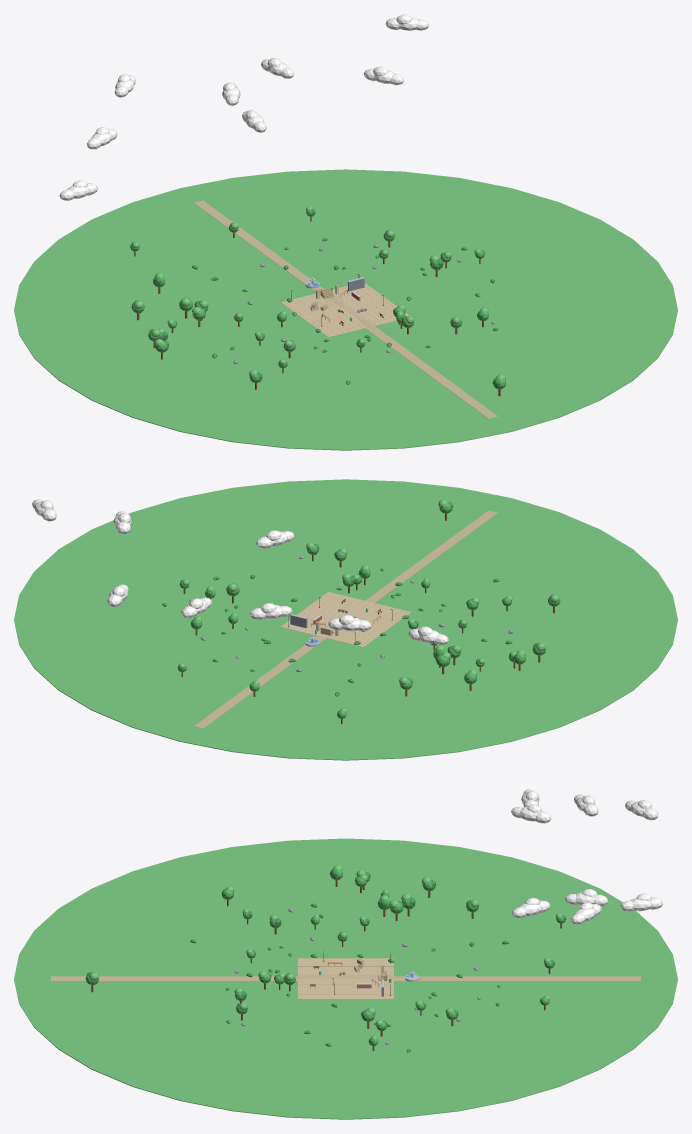
File: Parkour_World.fbx
3 views of the same model, one above another, from view 1: azimuth 30°, elevation 25°; view 2: azimuth 150°, elevation 25°; view 3: azimuth 270°, elevation 25° (orthographic).
Visible parts, largest first — view 1: Ground.001, Plaza.001, Path.002, Path.001; view 2: Ground.001, Plaza.001, Path.002, Path.001, Cloud.002, Cloud.003, Cloud.001, Cloud.004; view 3: Ground.001, Plaza.001, Path.001, Path.002, Cloud.006, Cloud.004, Cloud.007, Cloud.005.
Part boxes in pixels (x1,y1,x2,y2): Ground.001: (14, 169, 677, 450); Plaza.001: (280, 283, 409, 337); Path.002: (346, 308, 497, 418); Path.001: (194, 200, 350, 309); Ground.001: (14, 479, 677, 760); Plaza.001: (281, 592, 411, 647); Path.002: (365, 510, 497, 602); Path.001: (194, 635, 327, 728); Cloud.002: (328, 614, 371, 631); Cloud.003: (249, 603, 292, 619); Cloud.001: (408, 626, 448, 644); Cloud.004: (256, 530, 294, 548); Ground.001: (14, 838, 677, 1119); Plaza.001: (298, 958, 393, 998); Path.001: (346, 976, 640, 980); Path.002: (51, 976, 345, 980); Cloud.006: (620, 893, 663, 911); Cloud.004: (511, 804, 551, 823); Cloud.007: (512, 897, 550, 918); Cloud.005: (565, 889, 608, 906).
Size of the model in its own units: 180 by 48.96 by 180.
